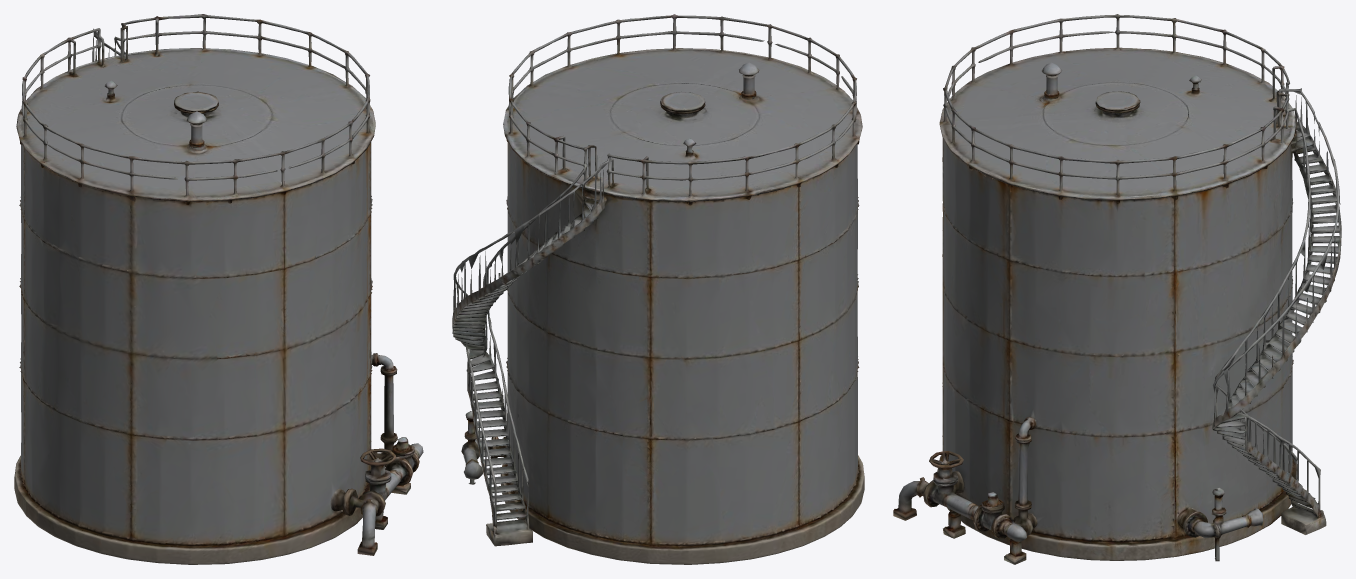
The model's file is prop_fuel_tank.glb.
3 views of the same model, side by side, from view 1: azimuth 30°, elevation 25°; view 2: azimuth 150°, elevation 25°; view 3: azimuth 270°, elevation 25° (orthographic).
Visible parts, largest first — view 1: tripo_node_42623f39-ee89-463f-8905-a4abf8bf66f4; view 2: tripo_node_42623f39-ee89-463f-8905-a4abf8bf66f4; view 3: tripo_node_42623f39-ee89-463f-8905-a4abf8bf66f4.
Part boxes in pixels (x1,y1,x2,y2): tripo_node_42623f39-ee89-463f-8905-a4abf8bf66f4: [14, 14, 423, 564]; tripo_node_42623f39-ee89-463f-8905-a4abf8bf66f4: [452, 14, 864, 564]; tripo_node_42623f39-ee89-463f-8905-a4abf8bf66f4: [893, 14, 1341, 564].
Bounding box in the file's own units: 0.8348 × 0.9772 × 0.9736.
Materials: 1 (1 with a texture image).
